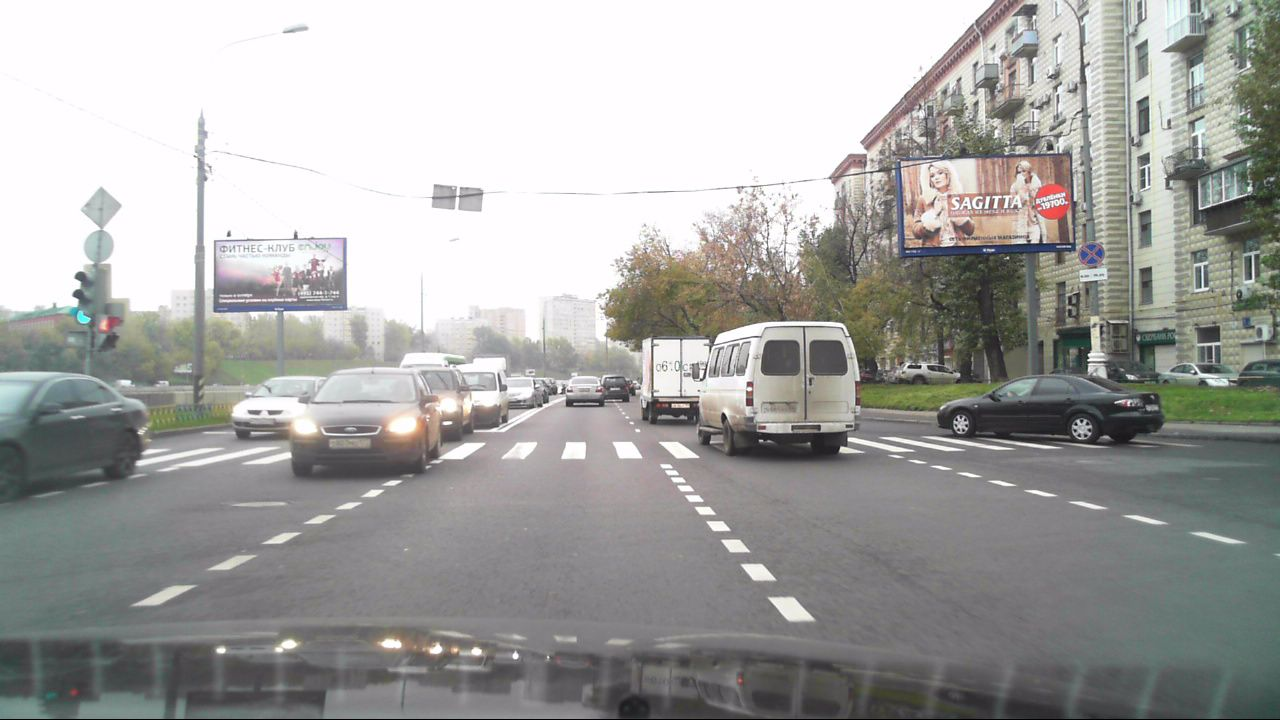No Parking: (1077, 240, 1105, 266)
